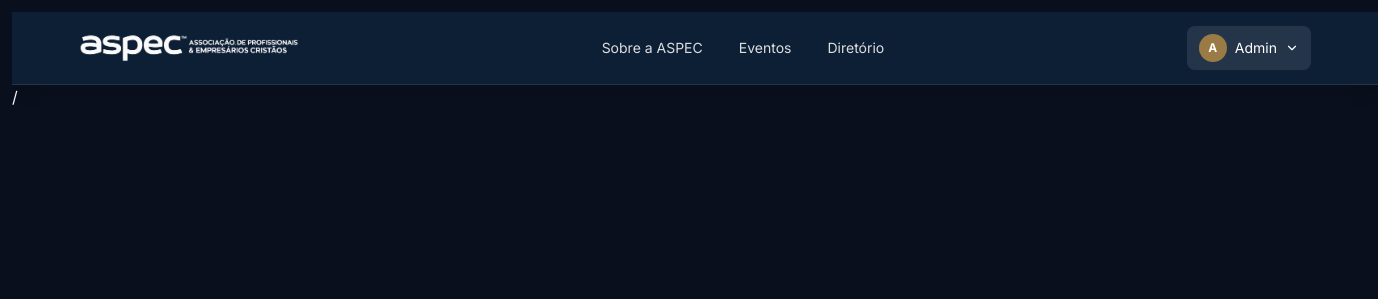
Test: Menu de conta do cabeçalho › escolher Cartões de oração navega e fecha o painel
The image size is (1378, 299).
Click the button "A Admin" at {"x": 1249, "y": 48}, box [1187,26,1311,70]
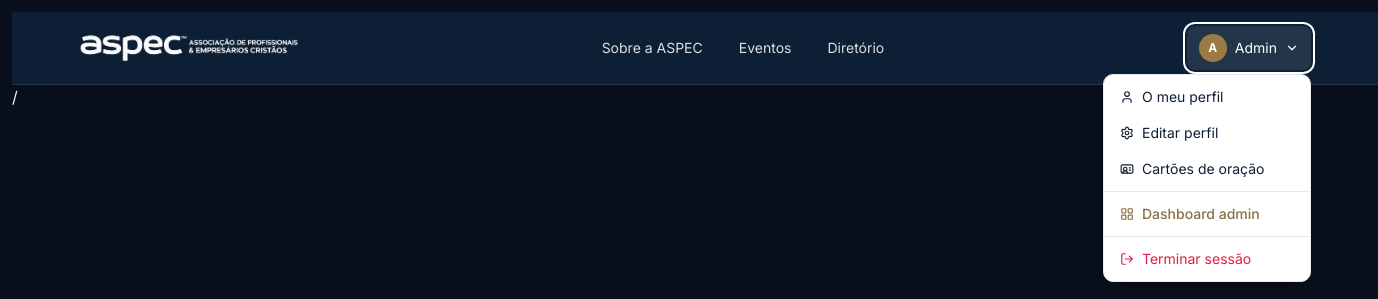
Click the link "Cartões de oração" at {"x": 1192, "y": 168}, box [1120,160,1264,177]
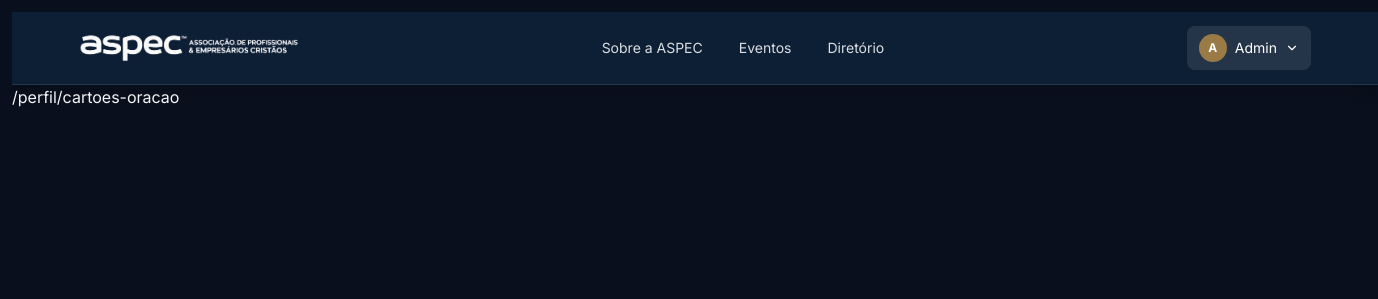
Expected: the text with test id "location" reads "/perfil/cartoes-oracao", [12,87,179,107]
